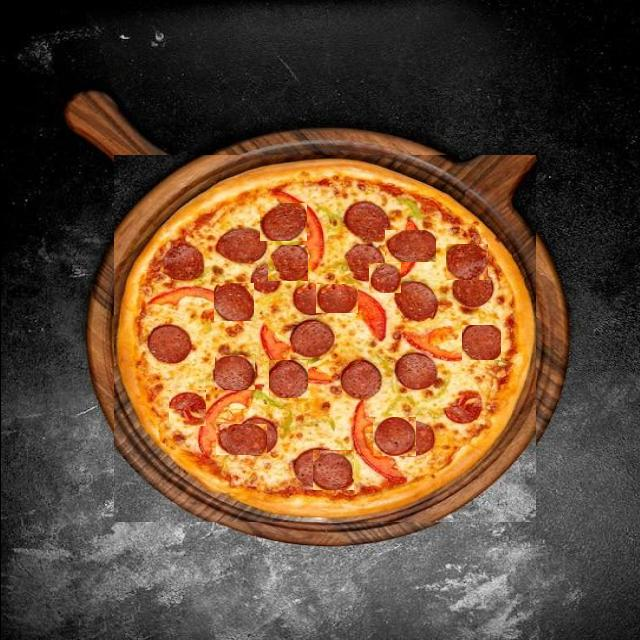pepperoni: (259, 203, 306, 241), (370, 417, 414, 456), (312, 450, 353, 490), (393, 352, 436, 390), (384, 230, 435, 262), (215, 424, 266, 455), (213, 283, 253, 321), (445, 244, 487, 280), (317, 321, 360, 356), (268, 360, 307, 398), (156, 271, 198, 306), (267, 245, 307, 281), (461, 326, 500, 362), (214, 355, 254, 390), (168, 390, 205, 426), (315, 284, 357, 313), (368, 263, 400, 293)
pizza: (113, 155, 535, 522)
